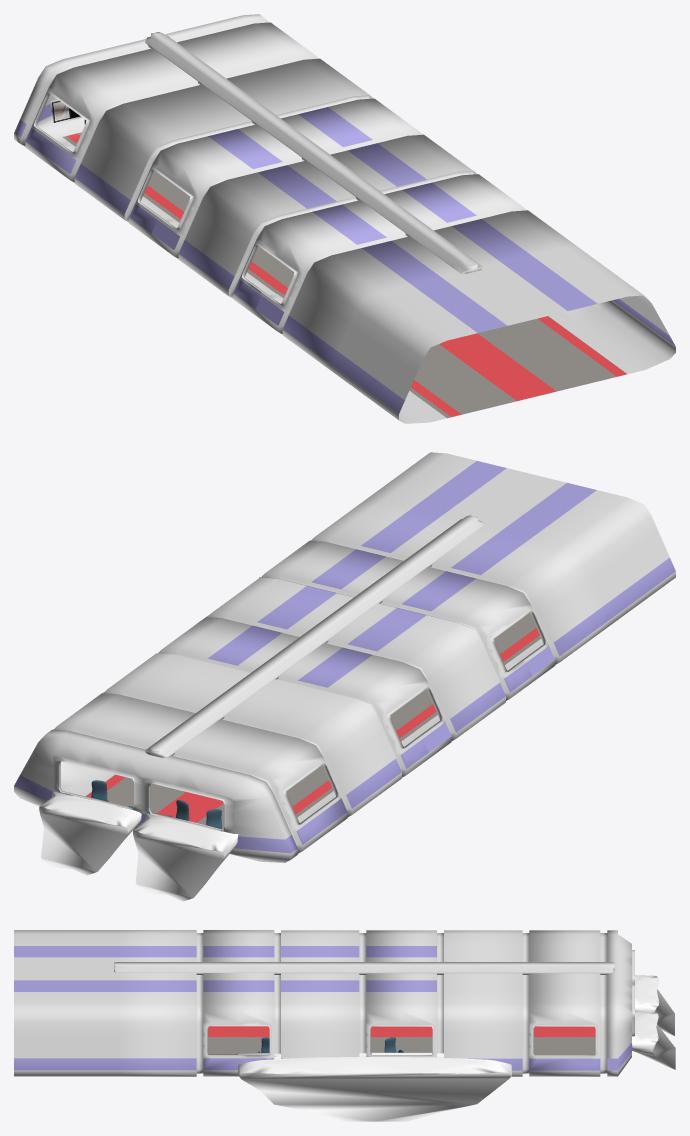
The model's file is scienceRoom.fbx.
3 renders of one model, top to bottom at view 1: azimuth 30°, elevation 25°; view 2: azimuth 150°, elevation 25°; view 3: azimuth 270°, elevation 25°, orthographic. The views are drawn at different scales.
Visible parts, largest first — view 1: mesh03_default2, mesh01_default4, mesh02_default3, mesh03_stripe, mesh03_floor, mesh04_default5, mesh02_stripe, mesh01_stripe, mesh01_floor3, mesh02_floor2; view 2: mesh01_default4, mesh03_default2, mesh02_default3, mesh03_stripe, mesh04_default5, mesh02_stripe, cube13a_cube13_auv4, cube13c_cube13_auv5, mesh01_floor3, mesh01_stripe, mesh03_floor, mesh02_floor2; view 3: mesh03_default2, mesh01_default4, cube13b_cube13_auv2, mesh02_default3, mesh03_stripe, mesh04_default5, mesh02_stripe, mesh01_floor3, cube13c_cube13_auv5, mesh03_floor, mesh01_stripe, mesh02_floor2 (+1 smaller).
Boxes of the visible parts, <box> form: mesh03_default2: <box>228,170,675,423</box>; mesh01_default4: <box>14,14,369,219</box>; mesh02_default3: <box>124,95,475,298</box>; mesh03_stripe: <box>233,182,675,413</box>; mesh03_floor: <box>277,291,627,418</box>; mesh04_default5: <box>145,32,483,273</box>; mesh02_stripe: <box>129,107,426,289</box>; mesh01_stripe: <box>14,104,130,213</box>; mesh01_floor3: <box>62,132,190,217</box>; mesh02_floor2: <box>173,216,294,293</box>; mesh01_default4: <box>14,653,401,862</box>; mesh03_default2: <box>259,452,675,700</box>; mesh02_default3: <box>158,577,505,777</box>; mesh03_stripe: <box>311,461,675,692</box>; mesh04_default5: <box>145,515,483,757</box>; mesh02_stripe: <box>208,586,505,768</box>; cube13a_cube13_auv4: <box>133,812,238,901</box>; cube13c_cube13_auv5: <box>39,790,141,875</box>; mesh01_floor3: <box>85,768,333,829</box>; mesh01_stripe: <box>14,759,401,853</box>; mesh03_floor: <box>423,613,541,692</box>; mesh02_floor2: <box>319,691,437,768</box>; mesh03_default2: <box>14,930,280,1076</box>; mesh01_default4: <box>444,930,634,1076</box>; cube13b_cube13_auv2: <box>237,1052,511,1121</box>; mesh02_default3: <box>281,930,443,1058</box>; mesh03_stripe: <box>14,946,274,1070</box>; mesh04_default5: <box>114,962,614,974</box>; mesh02_stripe: <box>281,946,436,1058</box>; mesh01_floor3: <box>534,1026,595,1054</box>; cube13c_cube13_auv5: <box>631,1012,675,1069</box>; mesh03_floor: <box>208,1026,269,1054</box>; mesh01_stripe: <box>468,1043,631,1070</box>; mesh02_floor2: <box>371,1026,432,1052</box>.
Size of the model in its own units: 199 by 71.68 by 467.
